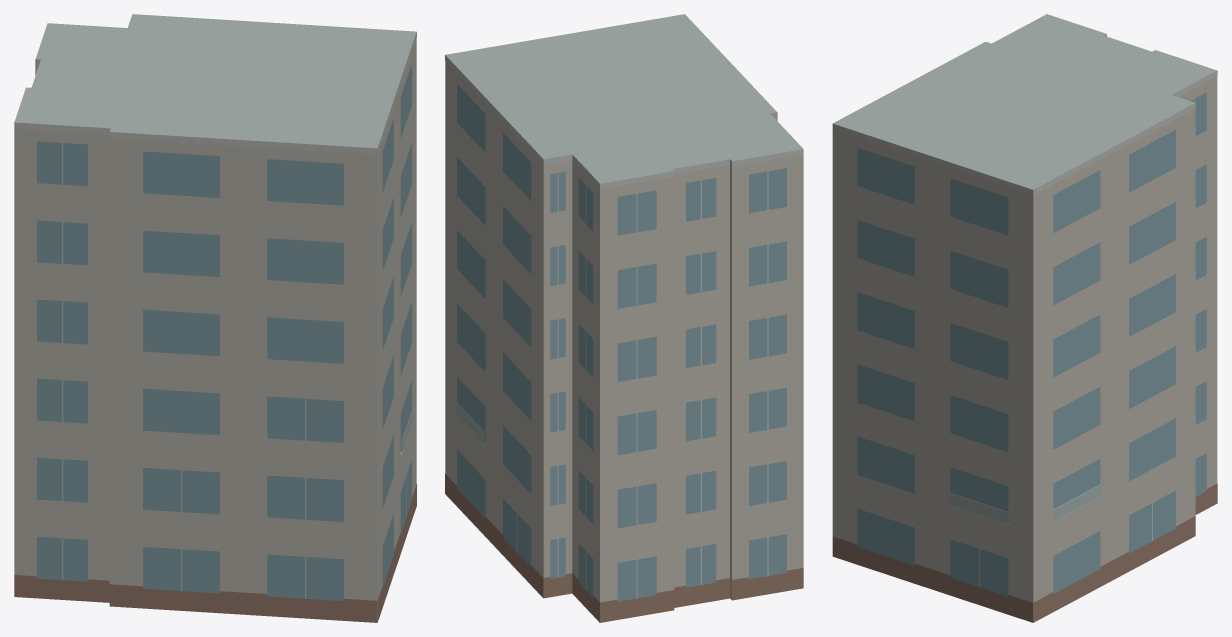
File: survey-upis-32649160.glb
The picture shows the model from 3 angles, left to right: view 1: azimuth 30°, elevation 25°; view 2: azimuth 150°, elevation 25°; view 3: azimuth 270°, elevation 25°; orthographic projection. The views are drawn at different scales.
Parts seen in each view (by area): view 1: survey-upis-32649160.tmp; view 2: survey-upis-32649160.tmp; view 3: survey-upis-32649160.tmp.
Boxes of the visible parts, box(x1,y1,x2,y2) form: survey-upis-32649160.tmp: box(14, 14, 416, 622); survey-upis-32649160.tmp: box(445, 14, 803, 622); survey-upis-32649160.tmp: box(832, 14, 1217, 622).
Size of the model in its own units: 16.21 by 18.6 by 14.99.
